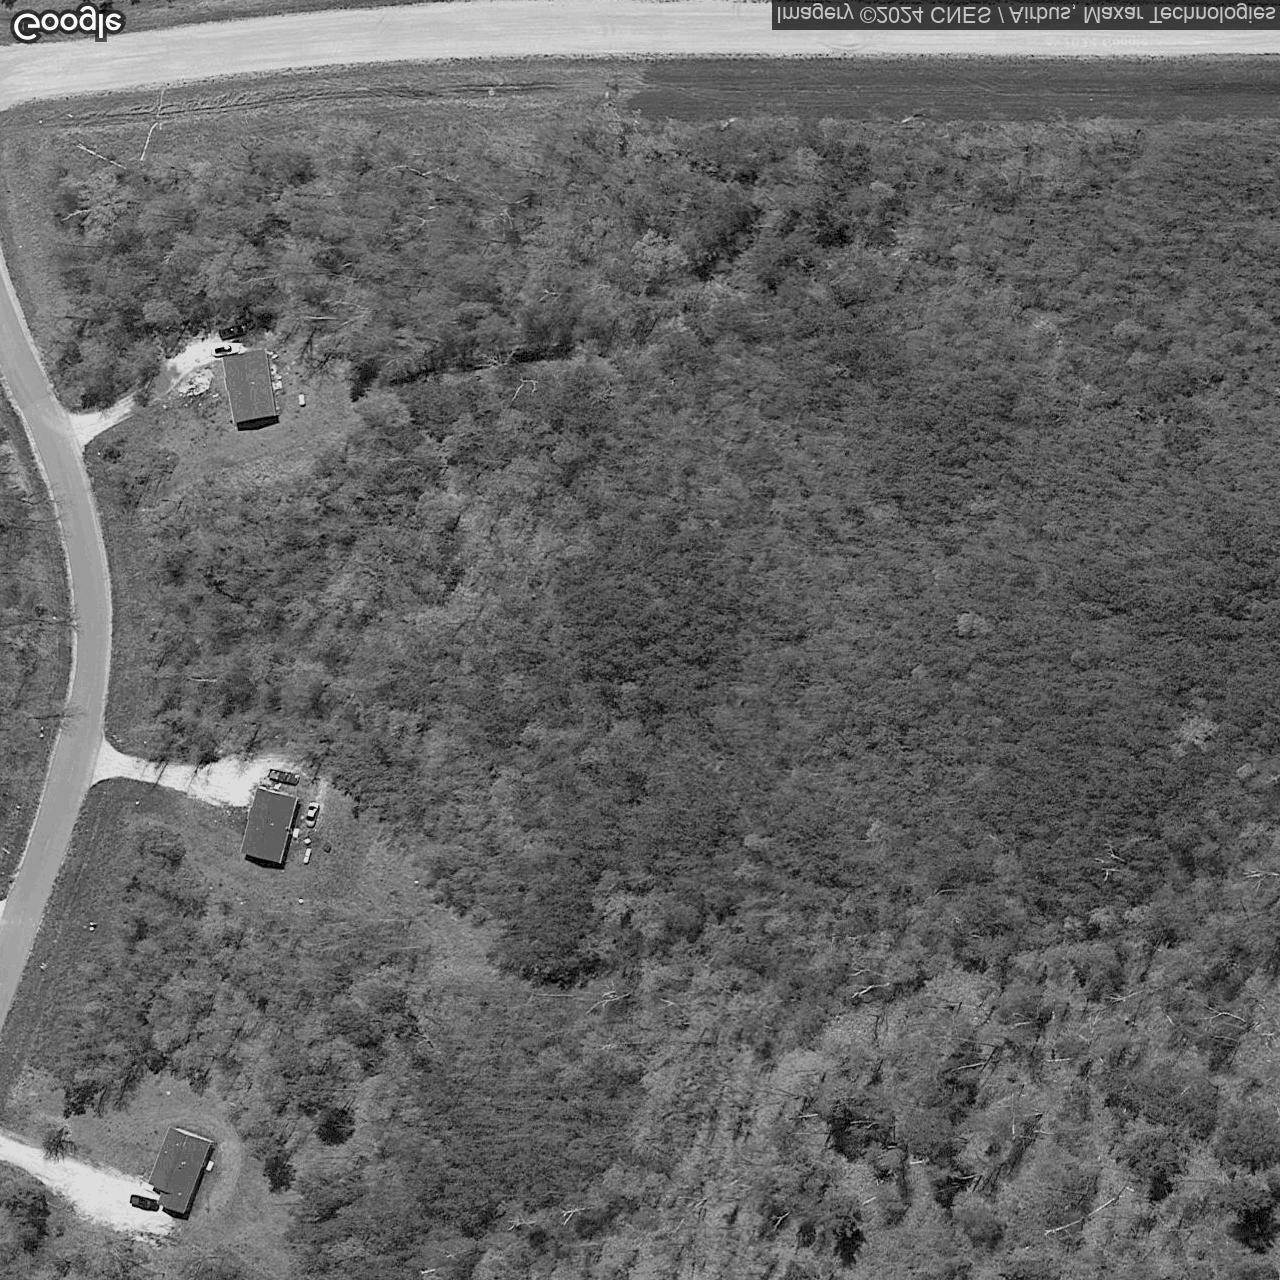House: (148, 1125, 215, 1214), (240, 785, 299, 866), (222, 348, 277, 424)
Propane: (301, 847, 314, 867), (297, 392, 307, 410), (204, 1159, 217, 1175)
